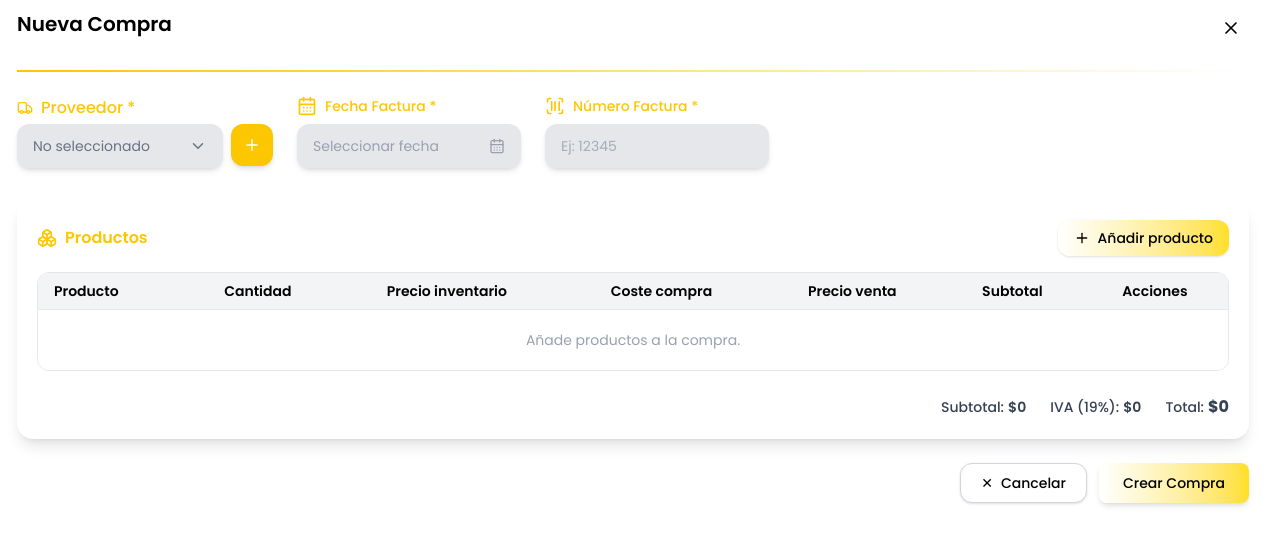
Test case: CreateShopping › Validación de fecha › muestra error cuando no se selecciona una fecha
This screenshot has width=1267, height=552.
Click the button "Crear Compra".
click(1174, 483)  # box [1099,463,1249,503]
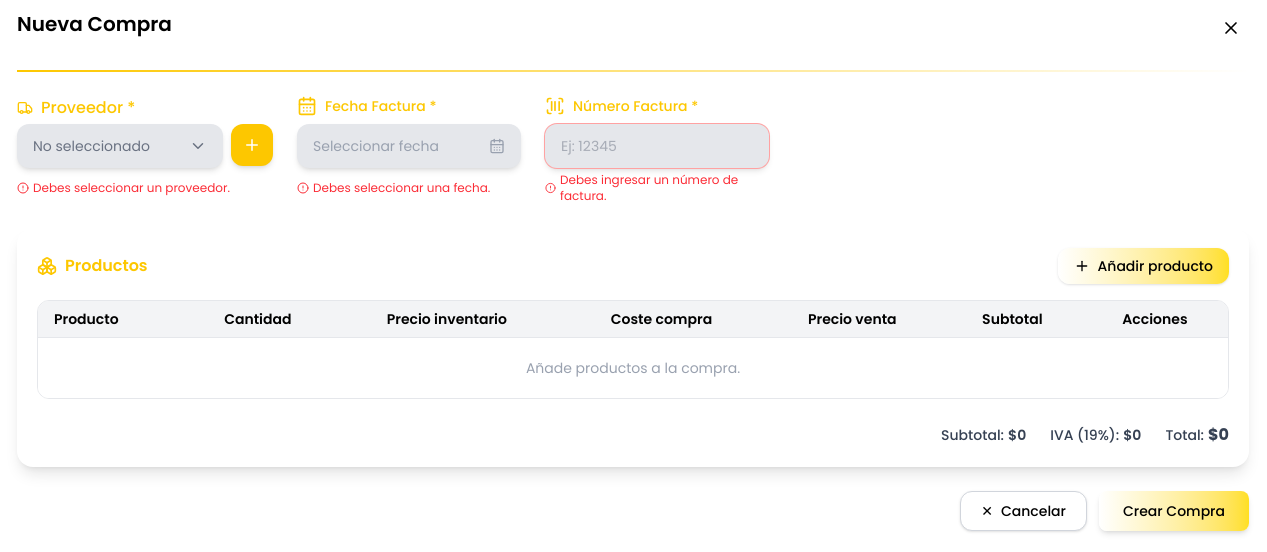
Now the text "Debes seleccionar una fecha." is shown, box [313,180,490,196]
